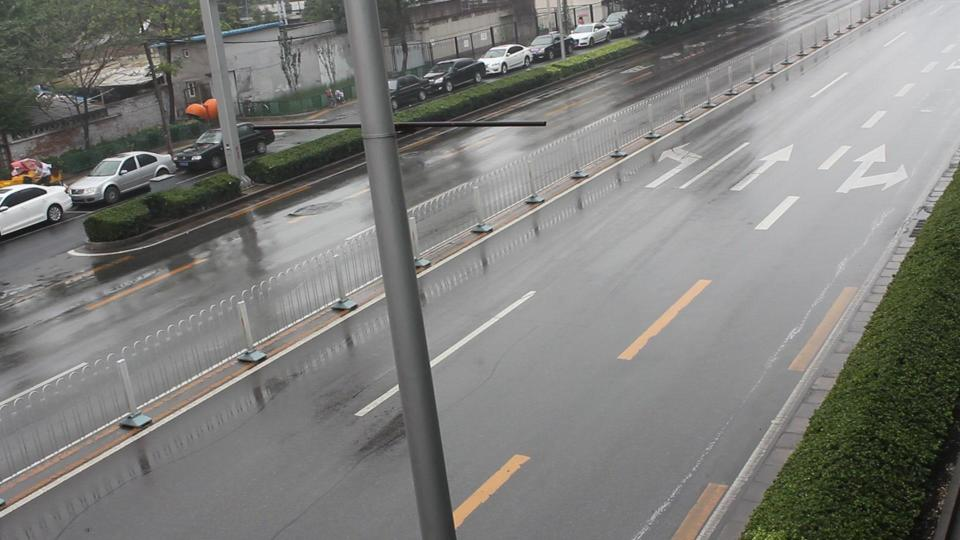car: (63, 151, 177, 208), (171, 123, 275, 172), (0, 183, 74, 241), (423, 58, 488, 92), (478, 44, 534, 76), (388, 75, 434, 109), (529, 33, 570, 61), (568, 23, 612, 48), (600, 11, 630, 38)
person: (334, 89, 345, 104)
